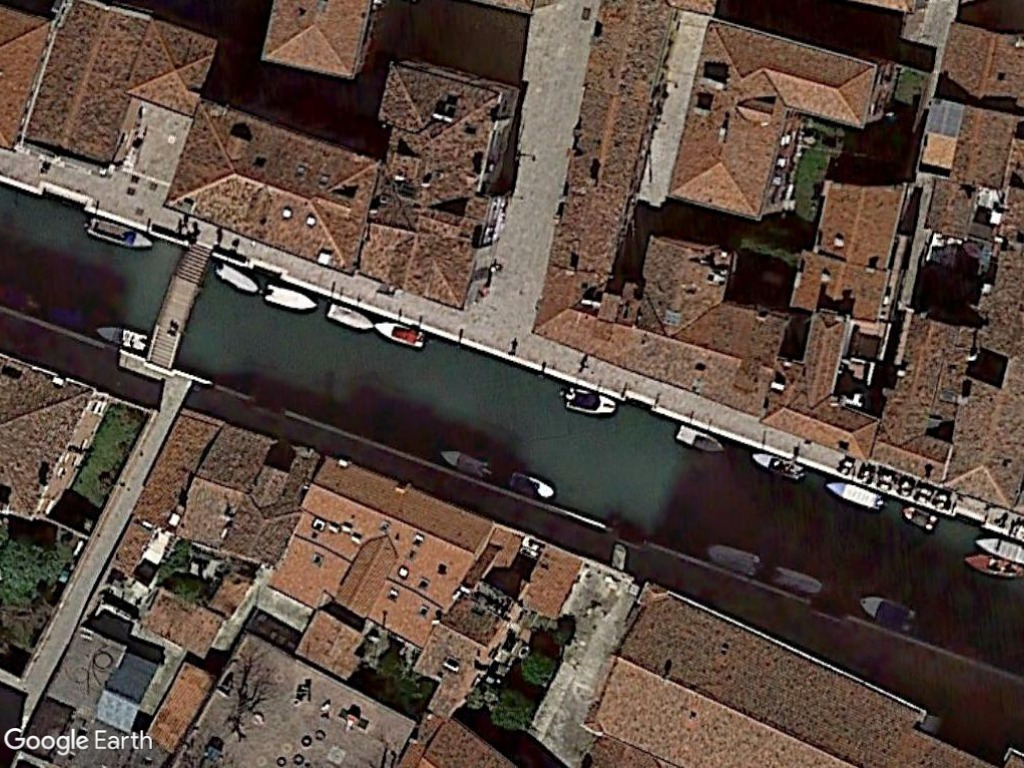boat: (83, 213, 155, 256), (857, 591, 920, 637), (706, 540, 766, 584), (820, 477, 887, 513), (556, 383, 619, 420), (436, 447, 496, 485), (746, 449, 809, 483), (370, 314, 428, 350), (670, 422, 729, 457), (505, 467, 560, 504), (264, 279, 319, 315), (210, 260, 262, 298), (91, 323, 153, 354), (322, 299, 374, 335)
